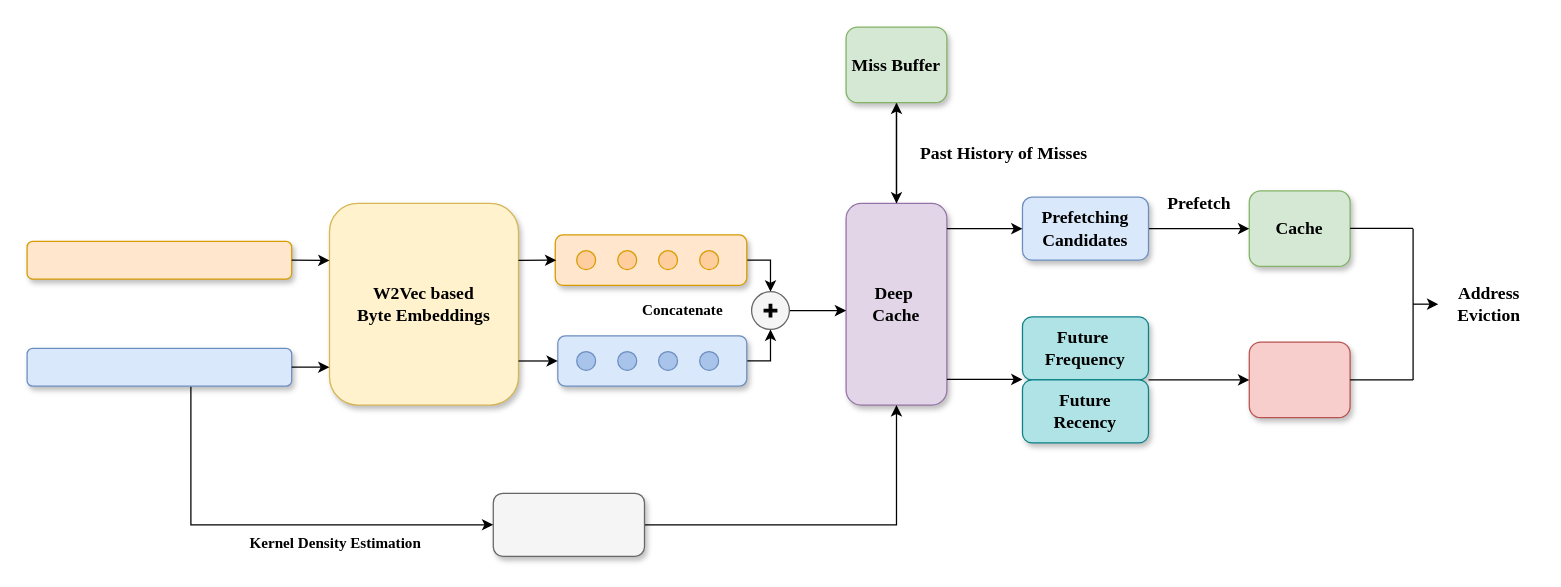
Image size: 1561x587. Some labels were removed from this diagram. The shapes that lost their labels are listed below. From the top down, each one's centre as x and y in pixels, then its label:
At pixel 160 261: "...PC i , PC i+1 , PC i+2 ...".
At pixel 160 368: "... Add i , Add i+1 , Add i+2 ...".
At pixel 1300 381: "LeCaR".
At pixel 569 526: "Distribution Vector".
